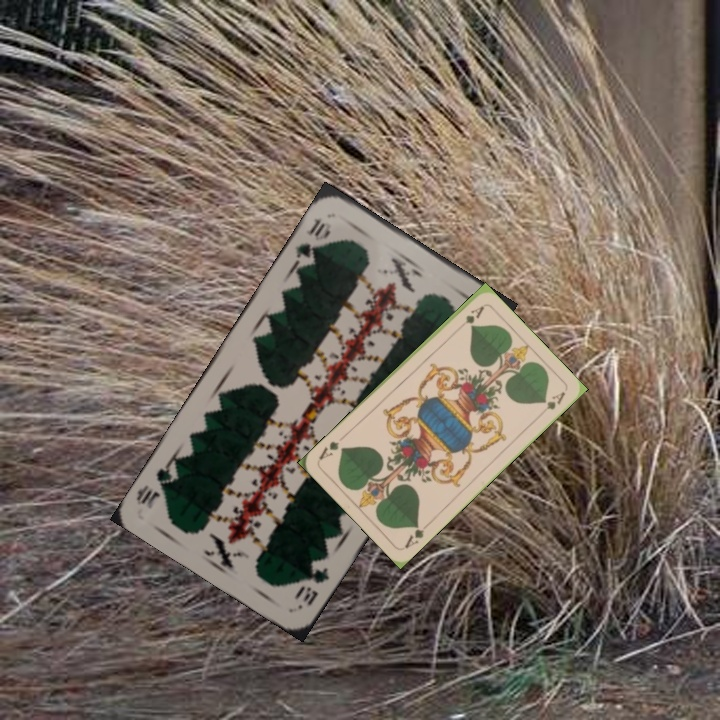G10: (291, 214, 333, 265), (290, 562, 332, 609)
GA: (453, 301, 487, 333), (400, 518, 432, 551)
